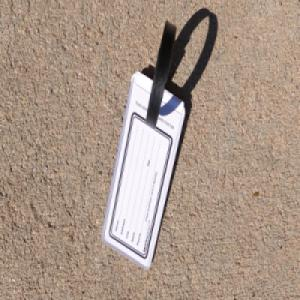LuggageTag: (101, 17, 185, 272)
